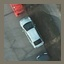car: (18, 16, 45, 51)
